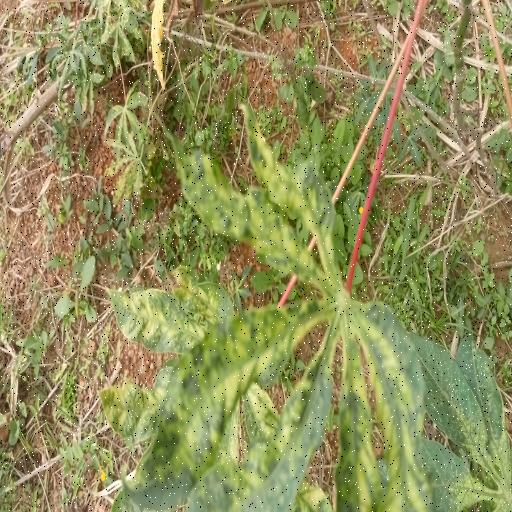Cassava_Mosaic: (129, 98, 438, 512)
